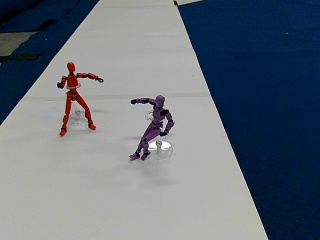pedestrian: (56, 61, 102, 135), (129, 94, 173, 158)
